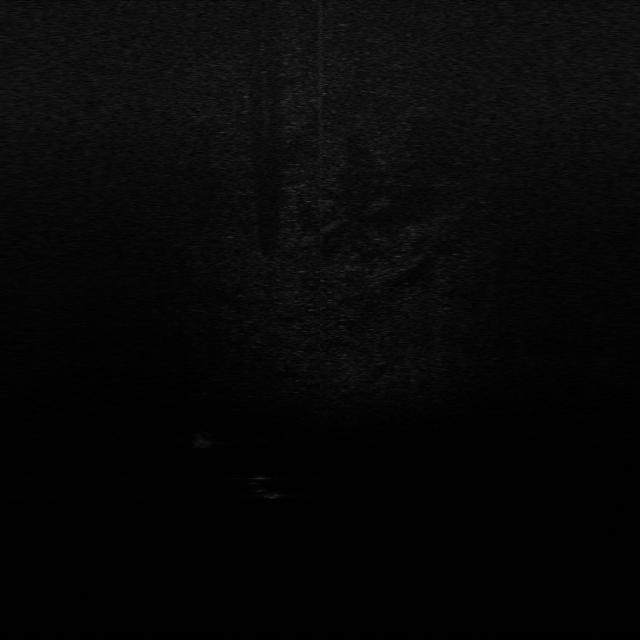circle cage: (188, 423, 220, 451)
tyre: (248, 471, 287, 502)
